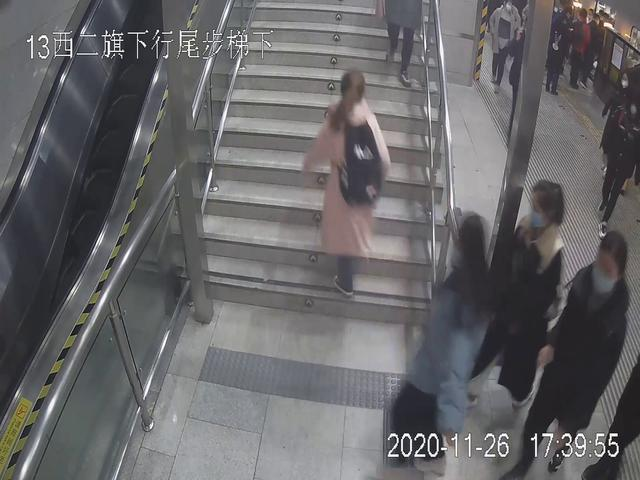person: (517, 222, 640, 480), (409, 213, 511, 446), (478, 175, 565, 432), (302, 65, 392, 299), (487, 1, 515, 93)
